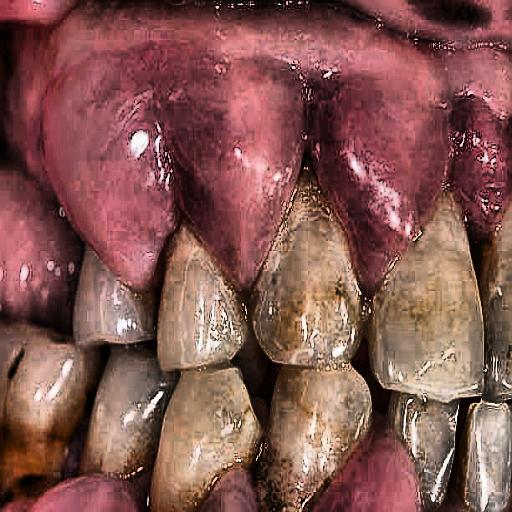Calculus: (123, 139, 358, 512)
